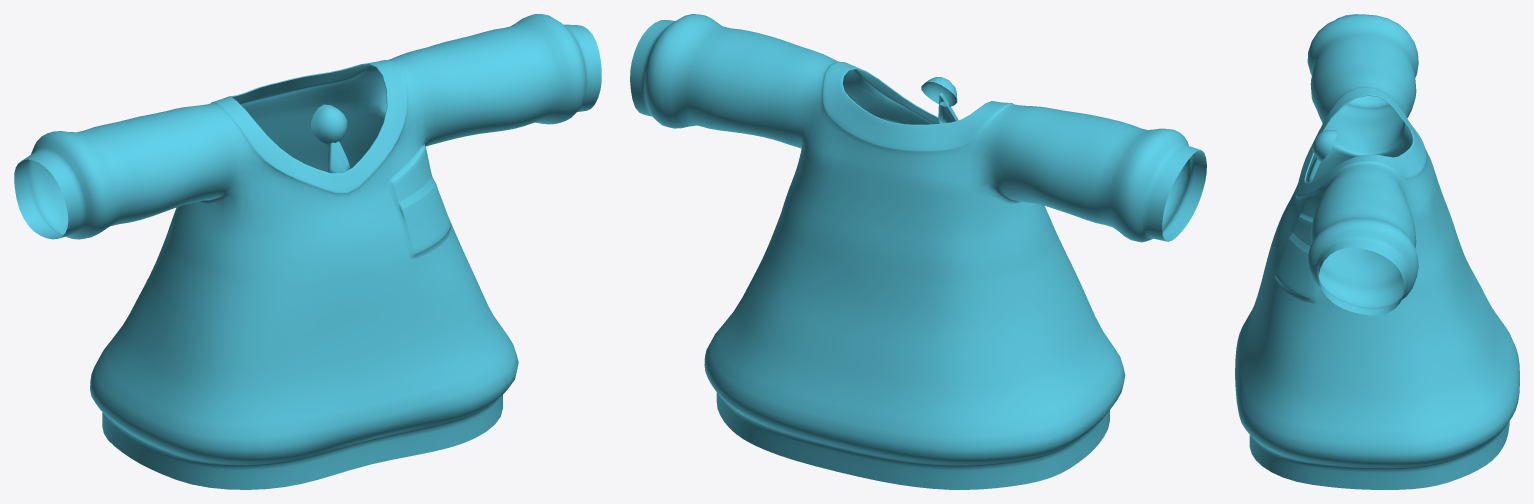
Rendered from Top_PollunderAndTie.fbx.
The picture shows the model from 3 angles, left to right: view 1: azimuth 30°, elevation 25°; view 2: azimuth 150°, elevation 25°; view 3: azimuth 270°, elevation 25°; orthographic projection. The views are drawn at different scales.
Visible parts, largest first — view 1: Pullover_polo-cardigan_tie; view 2: Pullover_polo-cardigan_tie; view 3: Pullover_polo-cardigan_tie.
Boxes of the visible parts, x1,y1,x2,y2 form: Pullover_polo-cardigan_tie: (14, 14, 601, 489); Pullover_polo-cardigan_tie: (630, 14, 1206, 489); Pullover_polo-cardigan_tie: (1235, 14, 1519, 489).
Bounding box in the file's own units: 170 × 100 × 87.32.
